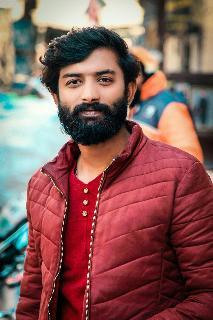person - v3 P: (16, 27, 212, 319), (130, 47, 203, 161)
